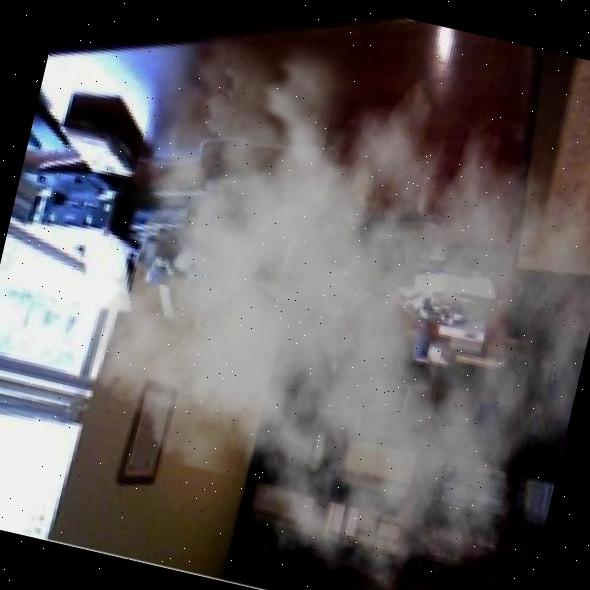smoke: (32, 0, 590, 590)
